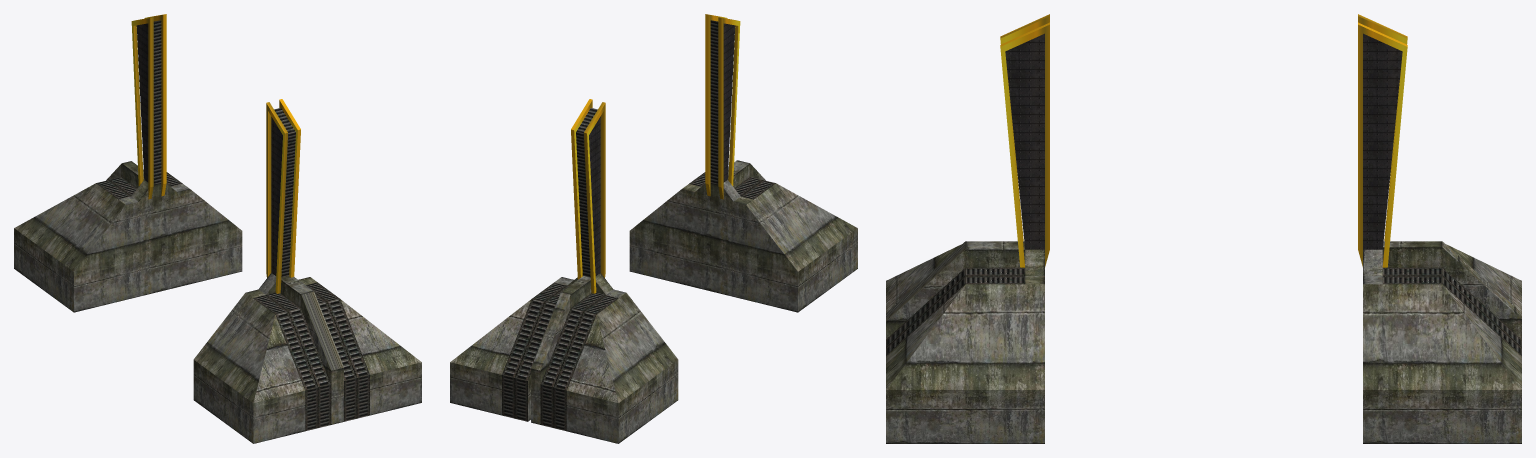
Rendered from defaultGate.fbx.
The picture shows the model from 3 angles, left to right: view 1: azimuth 30°, elevation 25°; view 2: azimuth 150°, elevation 25°; view 3: azimuth 270°, elevation 25°; orthographic projection. The views are drawn at different scales.
Parts seen in each view (by area): view 1: Object; view 2: Object; view 3: Object.
Boxes of the visible parts, x1=… form: Object: x1=14, y1=14, x2=421, y2=443; Object: x1=450, y1=14, x2=857, y2=443; Object: x1=886, y1=14, x2=1521, y2=443.
Size of the model in its own units: 2600 by 4100 by 6400.
